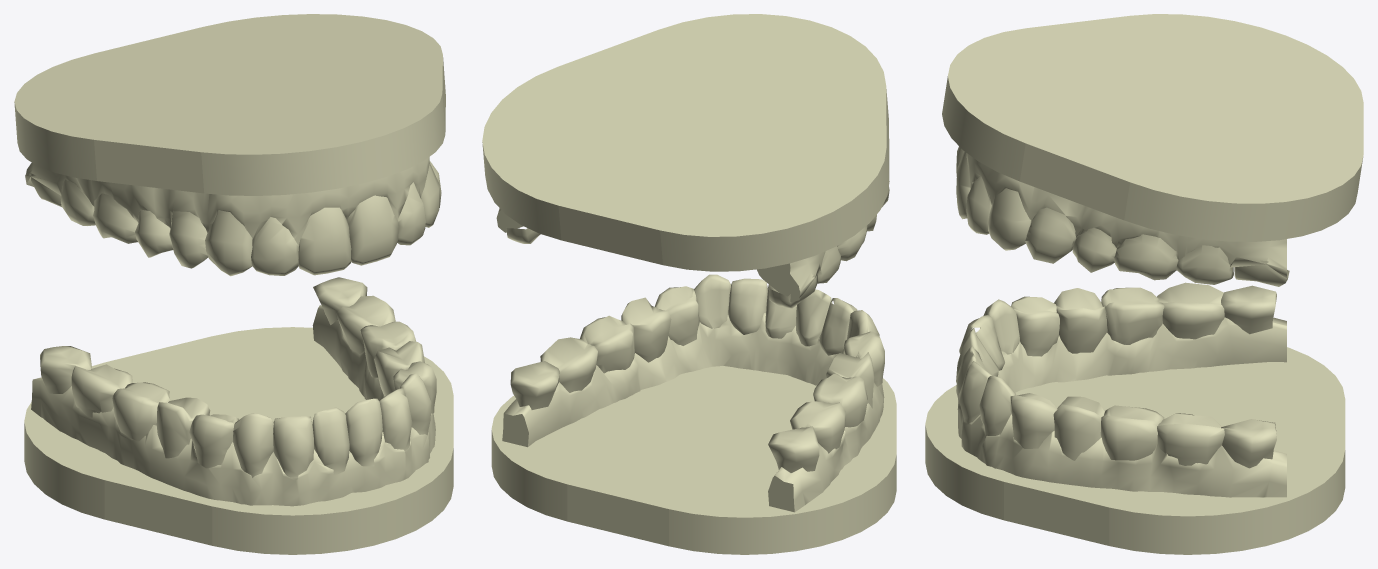
Rendered from DENTIER.glb.
3 renders of one model, left to right at view 1: azimuth 30°, elevation 25°; view 2: azimuth 150°, elevation 25°; view 3: azimuth 270°, elevation 25°, orthographic. The views are drawn at different scales.
Size of the model in its own units: 0.0718 by 0.0702 by 0.0721.
